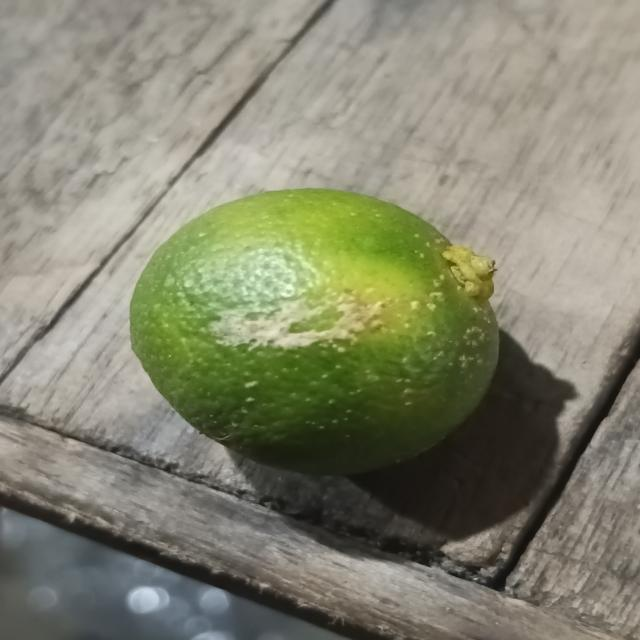thrips: (127, 192, 505, 468)
